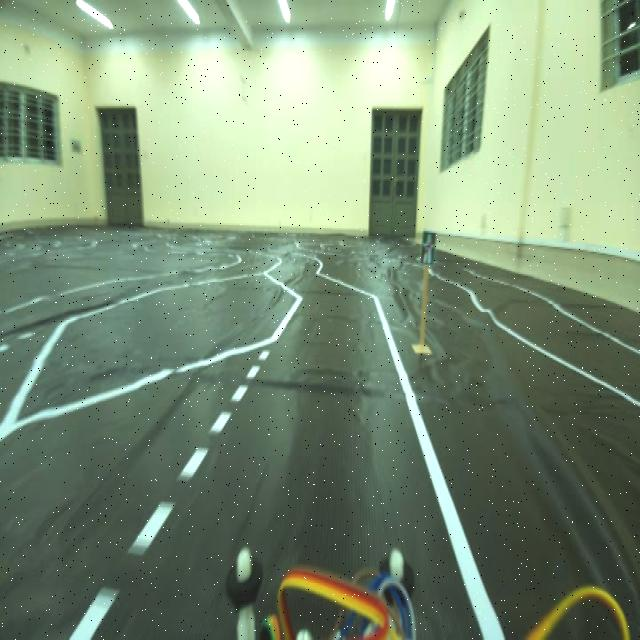highway_exit: (418, 225, 440, 276)
